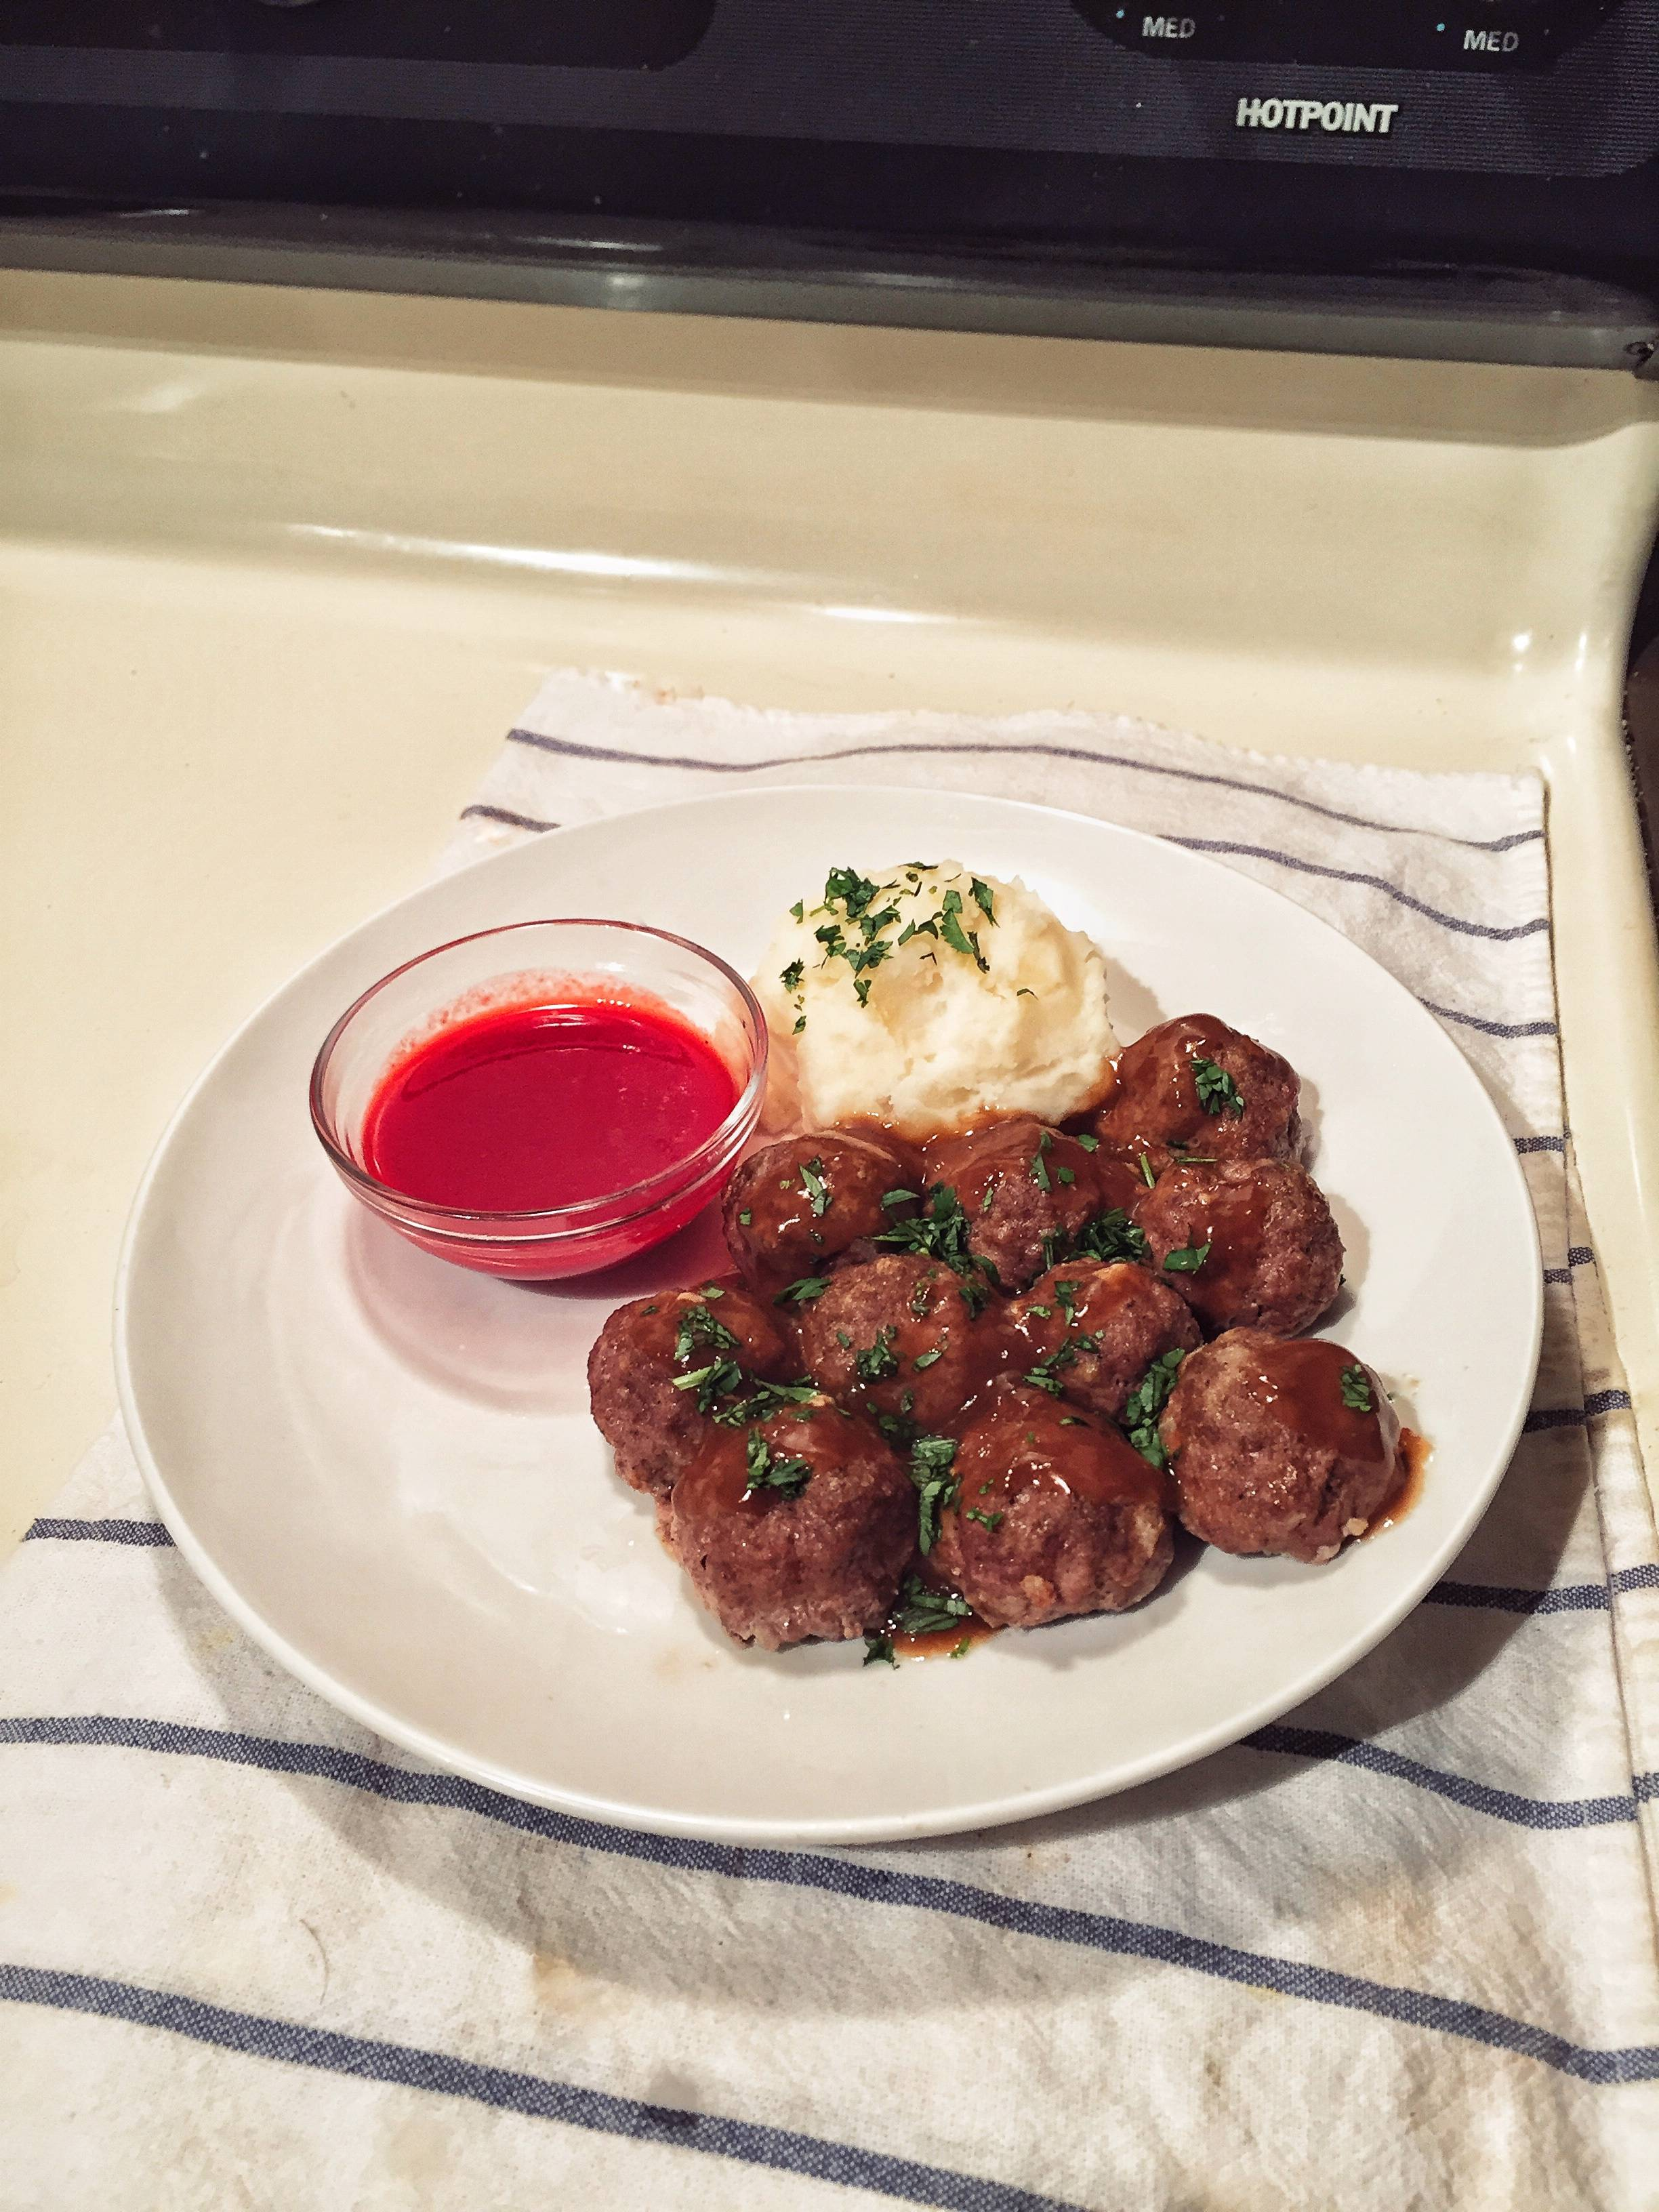fried egg: (803, 887, 1091, 1109)
meatballs: (681, 1170, 1392, 1576)
